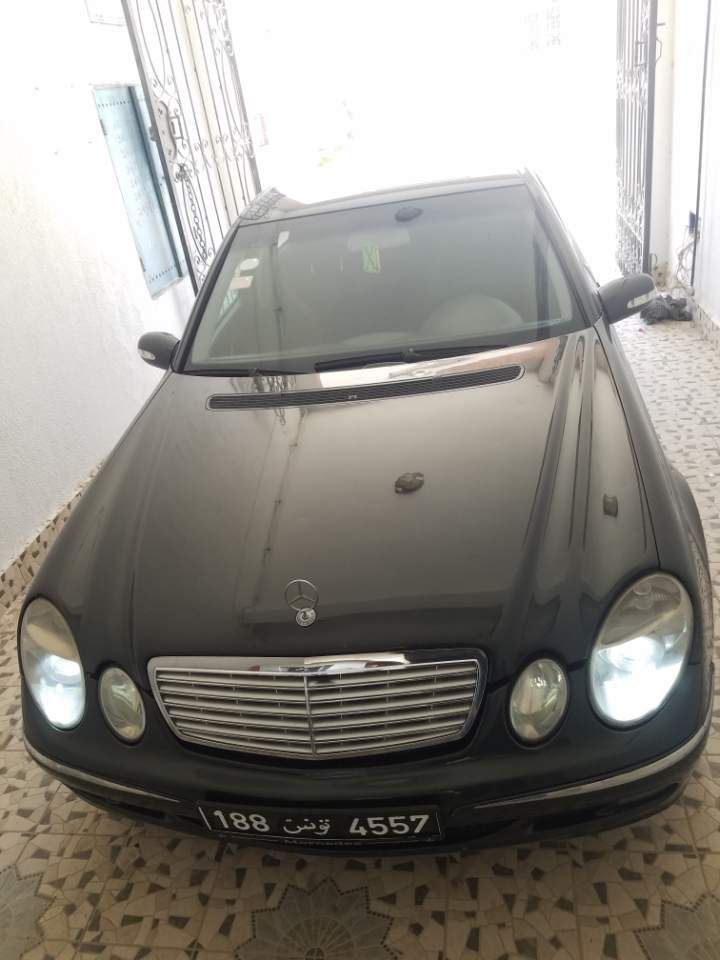LP: (201, 802, 439, 839)
